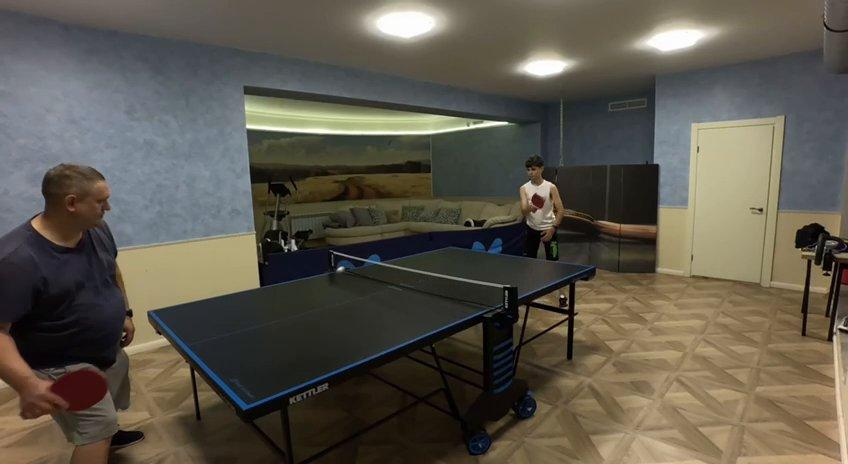Ball: (336, 264, 349, 273)
Net: (327, 251, 515, 308)
Player1: (519, 155, 563, 258)
Player2: (0, 163, 143, 463)
Table: (149, 247, 594, 409)
